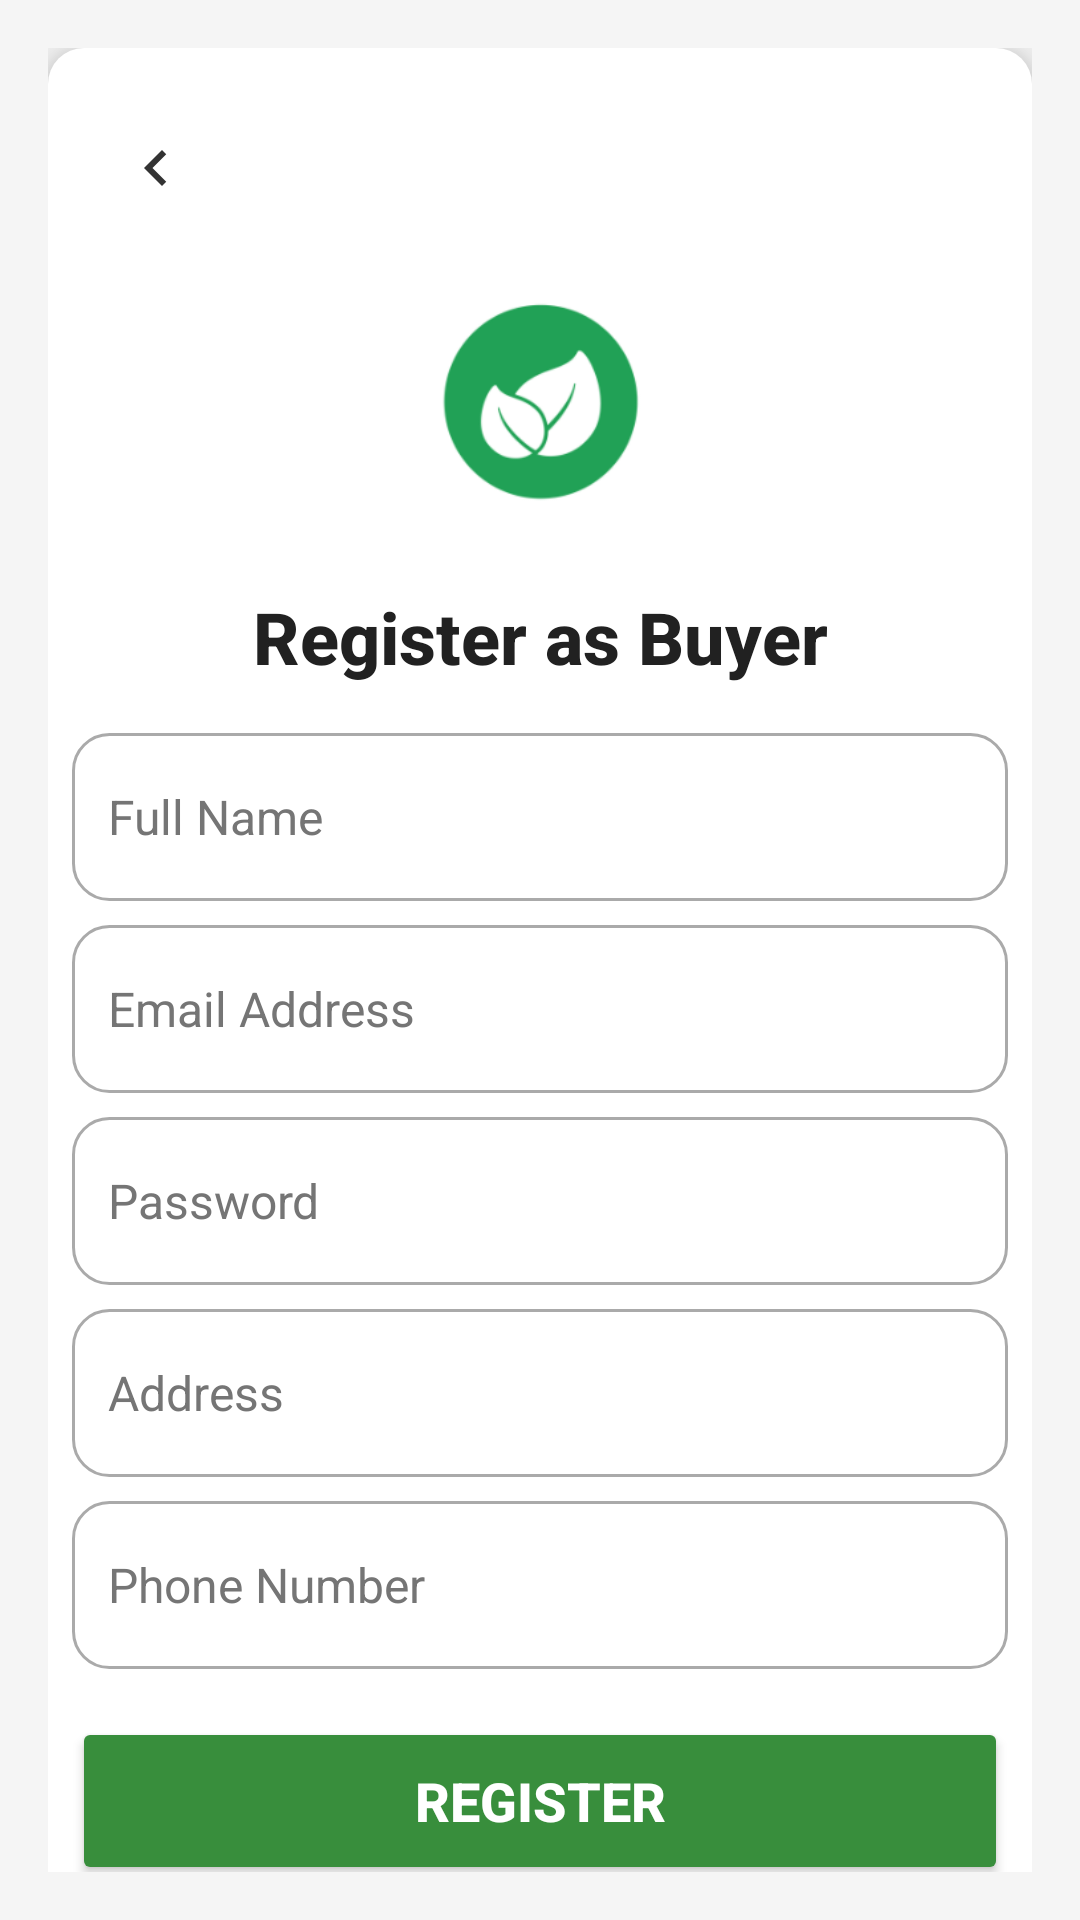

Icons on this 1080 × 1920 Android screen, each with its box as region(x1, y1, x2, y2):
Back: region(144, 150, 166, 186)
